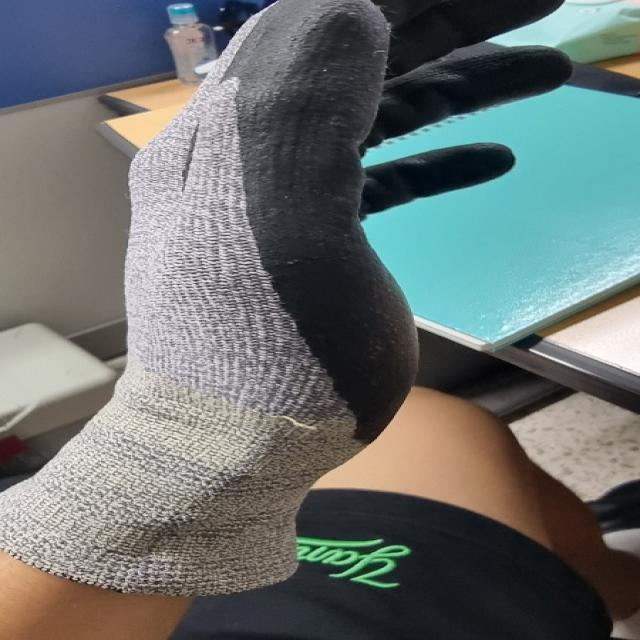Gloves: (97, 0, 568, 582)
